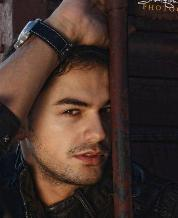face: (58, 94, 111, 166)
